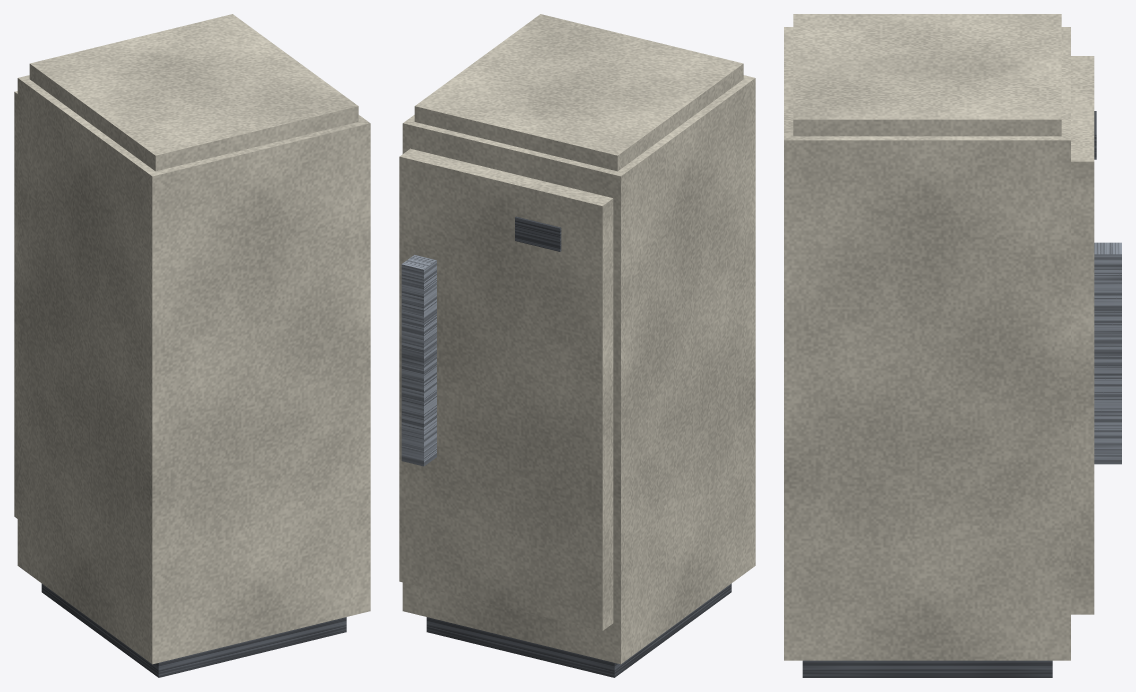
File: refrigerator.fbx
The picture shows the model from 3 angles, left to right: view 1: azimuth 30°, elevation 25°; view 2: azimuth 150°, elevation 25°; view 3: azimuth 270°, elevation 25°; orthographic projection. The views are drawn at different scales.
Visible parts, largest first — view 1: refrigerator; view 2: refrigerator; view 3: refrigerator.
Part boxes in pixels (<box>): refrigerator: <box>14,14,370,677</box>; refrigerator: <box>399,14,755,677</box>; refrigerator: <box>784,14,1121,677</box>.
Bounding box in the file's own units: 58 × 134 × 73.
